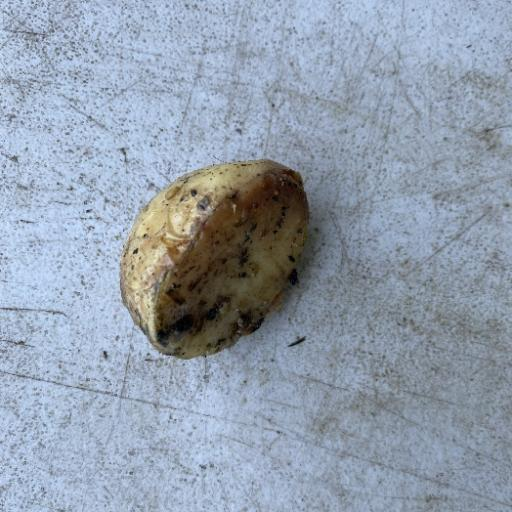Waste: (117, 157, 311, 360)
